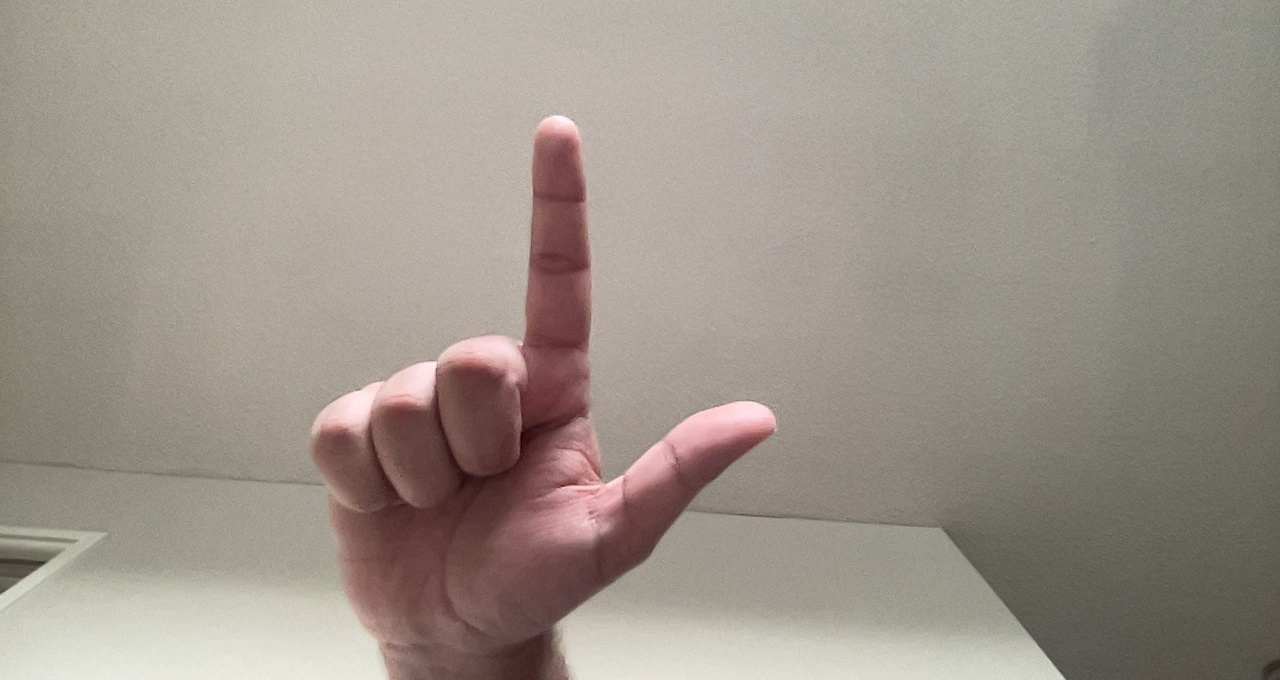L: (289, 108, 792, 663)
